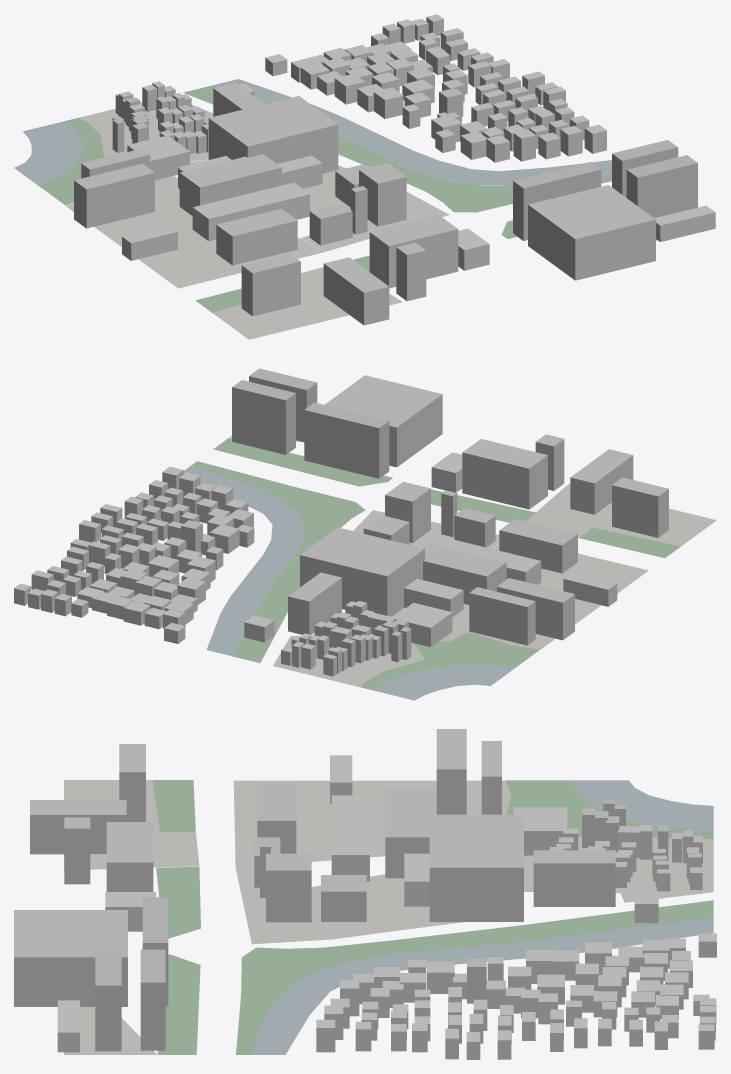
File: 106_101_mid.glb
The picture shows the model from 3 angles, top to bottom: view 1: azimuth 30°, elevation 25°; view 2: azimuth 150°, elevation 25°; view 3: azimuth 270°, elevation 25°; orthographic projection. The views are drawn at different scales.
Size of the model in its own units: 517 by 58.23 by 541.
